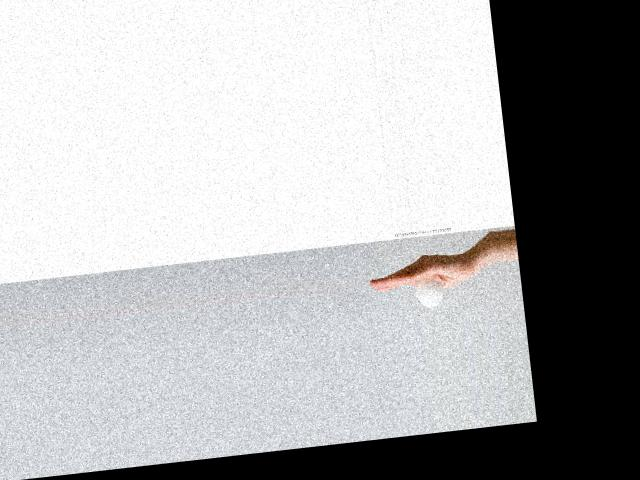egg: (414, 273, 444, 308)
